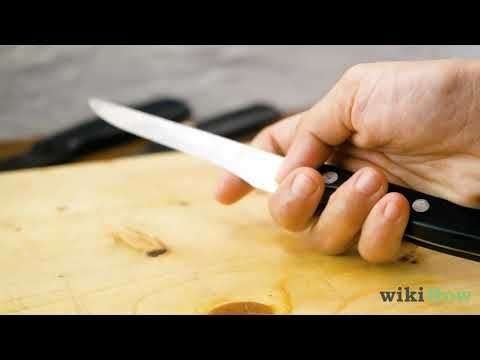knife: (80, 93, 480, 263)
